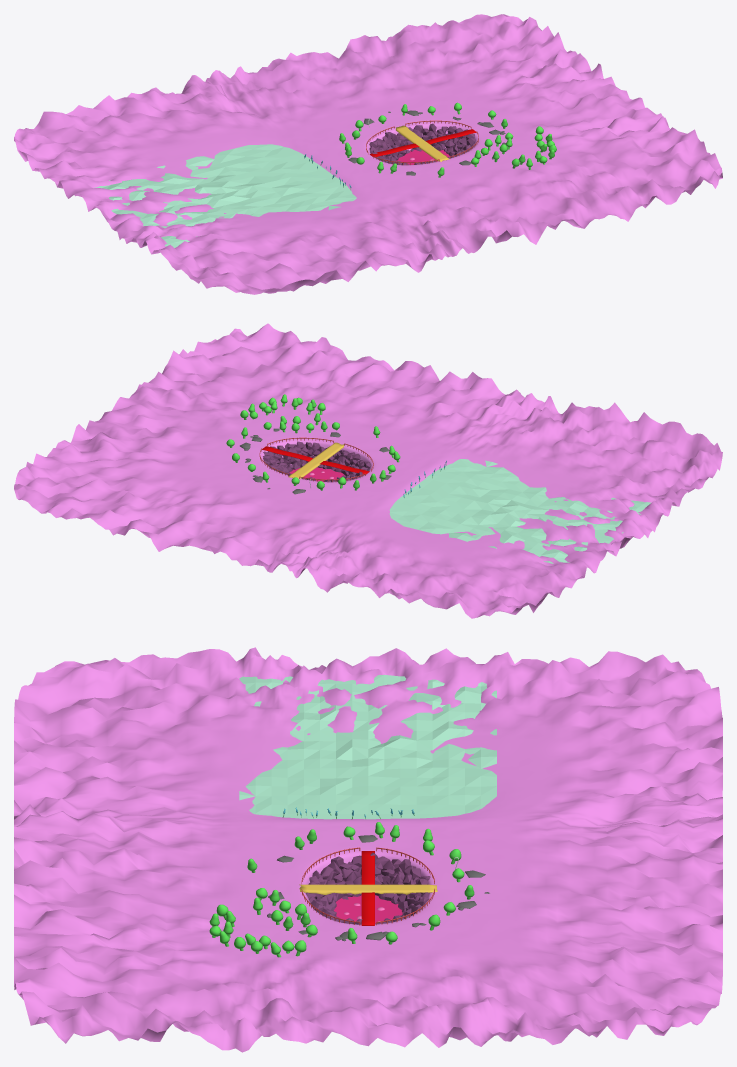
The model's file is mapTest002.fbx.
The picture shows the model from 3 angles, top to bottom: view 1: azimuth 30°, elevation 25°; view 2: azimuth 150°, elevation 25°; view 3: azimuth 270°, elevation 25°; orthographic projection. The views are drawn at different scales.
Visible parts, largest first — view 1: mainLand, water, kayalık, yellowBridge; view 2: mainLand, water, kayalık, yellowBridge; view 3: mainLand, water, kayalık, yellowBridge, hazardWater, fence.
Part boxes in pixels (x1=…): mainLand: x1=14, y1=14, x2=722, y2=294; water: x1=94, y1=144, x2=356, y2=247; kayalık: x1=369, y1=123, x2=475, y2=165; yellowBridge: x1=396, y1=125, x2=449, y2=161; mainLand: x1=14, y1=323, x2=722, y2=618; water: x1=389, y1=459, x2=651, y2=563; kayalık: x1=263, y1=441, x2=371, y2=482; yellowBridge: x1=288, y1=442, x2=344, y2=478; mainLand: x1=14, y1=647, x2=722, y2=1052; water: x1=239, y1=674, x2=496, y2=819; kayalık: x1=305, y1=852, x2=430, y2=924; yellowBridge: x1=299, y1=884, x2=437, y2=895; hazardWater: x1=334, y1=895, x2=403, y2=923; fence: x1=301, y1=847, x2=434, y2=925.
Size of the model in its own units: 7176 by 516 by 5687.
